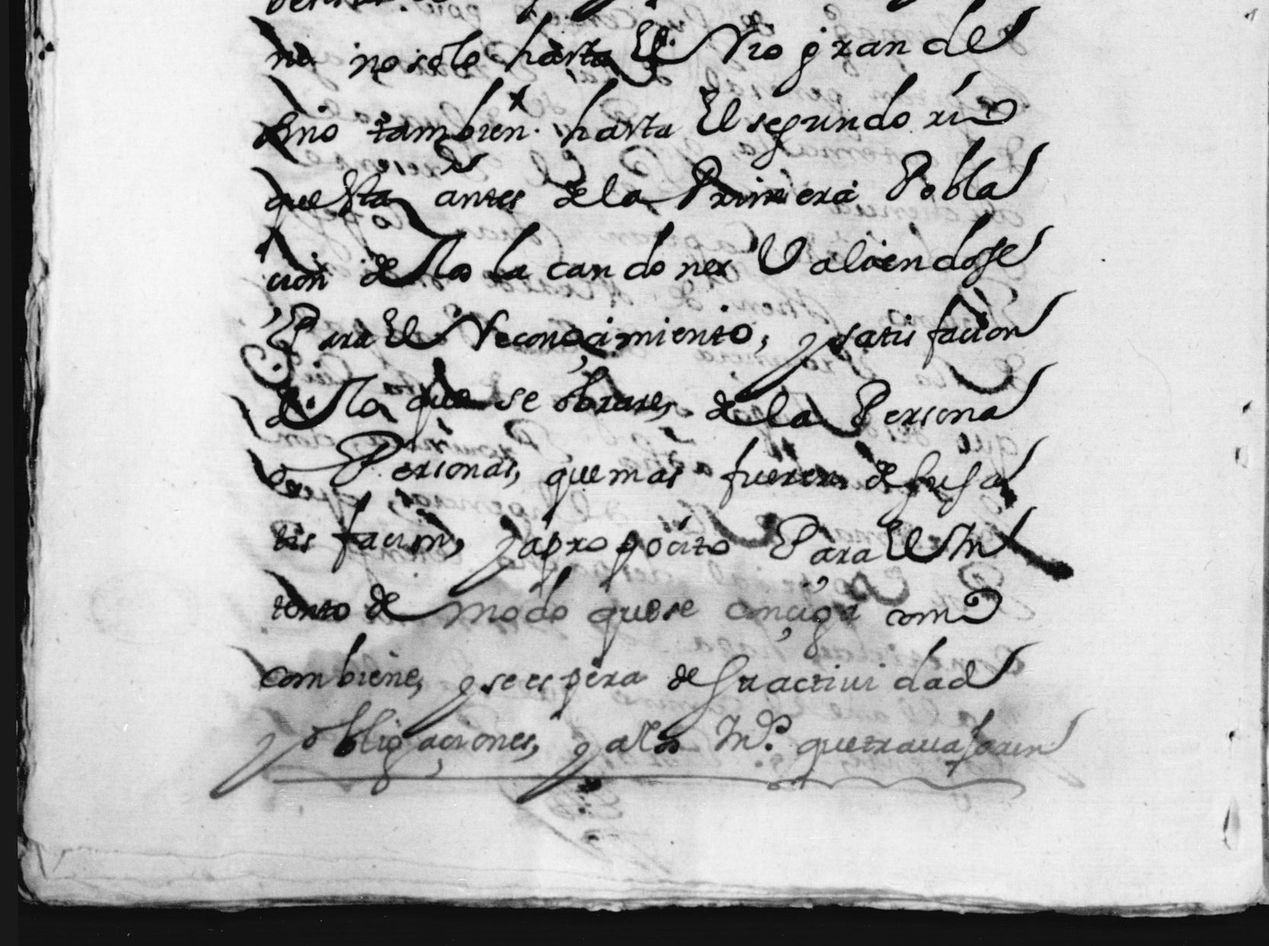lacandon: (491, 221, 732, 282)
